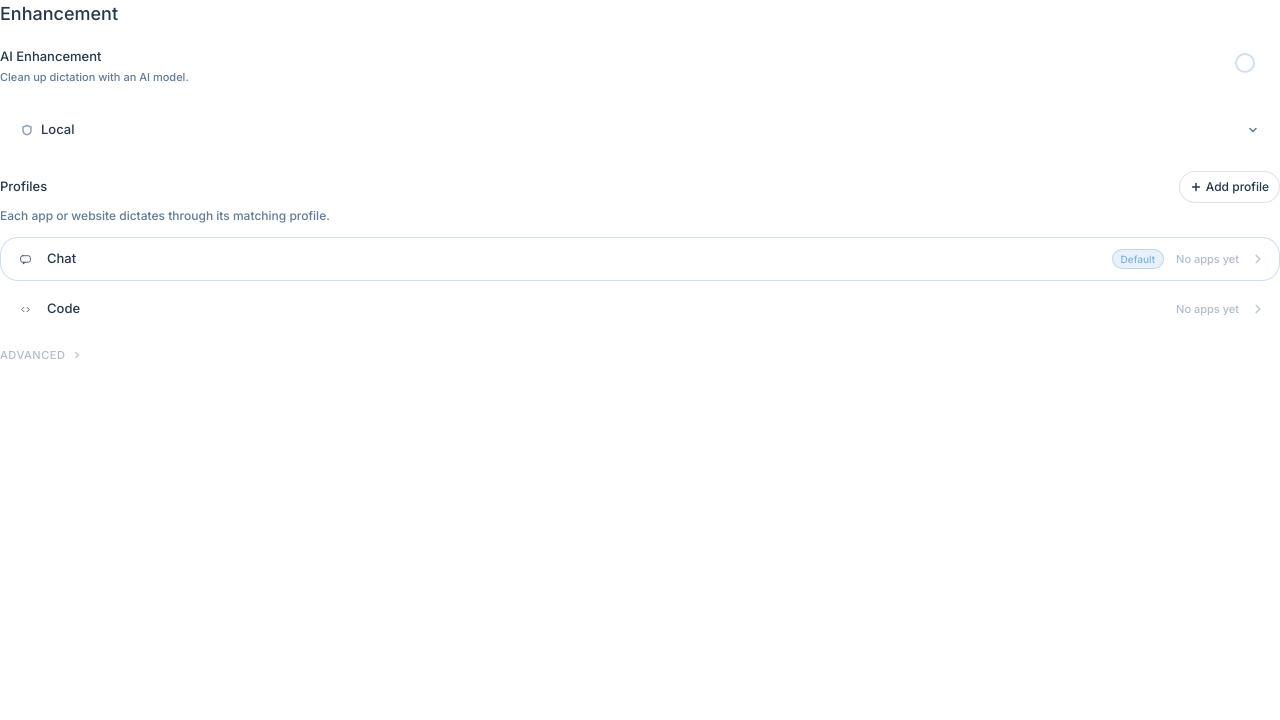
Test case: Enhancement - development candidate model selector › shows every candidate with exact metadata while hiding unpublished R2 rows
Click the button "Local".
click(58, 129)  # box [1,106,1279,154]
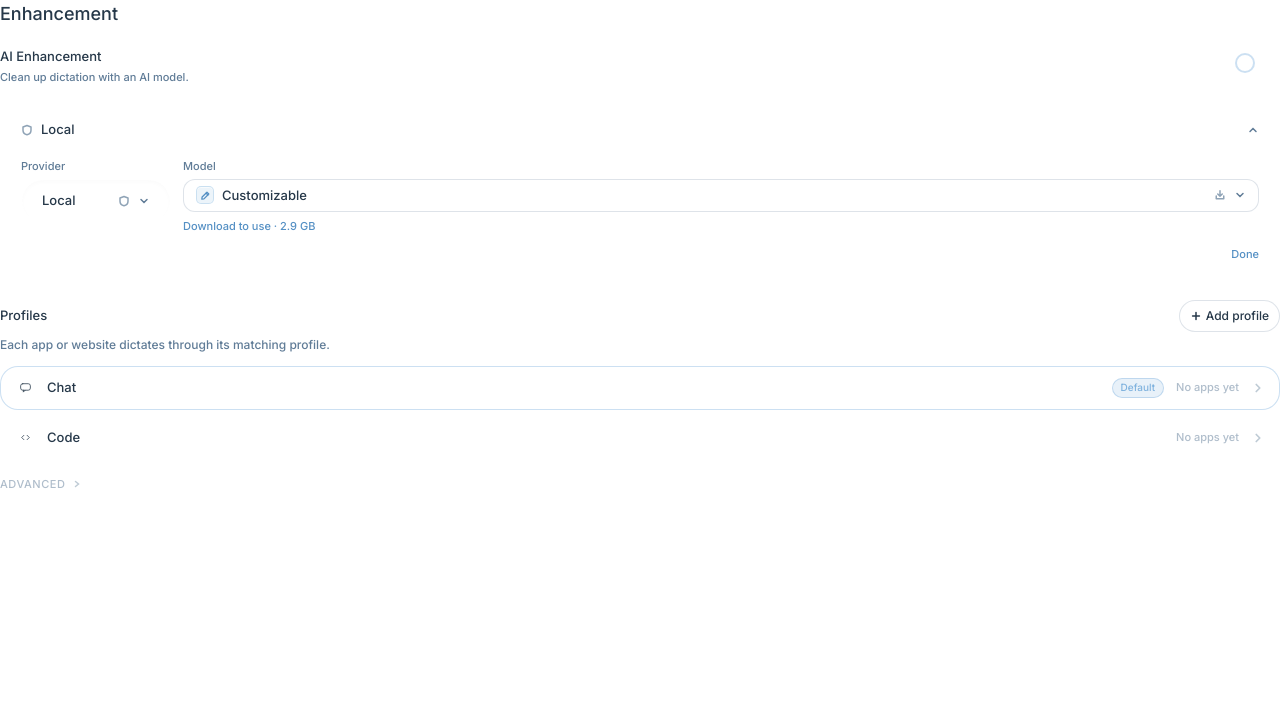
Click the button with aria-label "Local model:".
click(264, 194)  # box [183,178,1259,212]
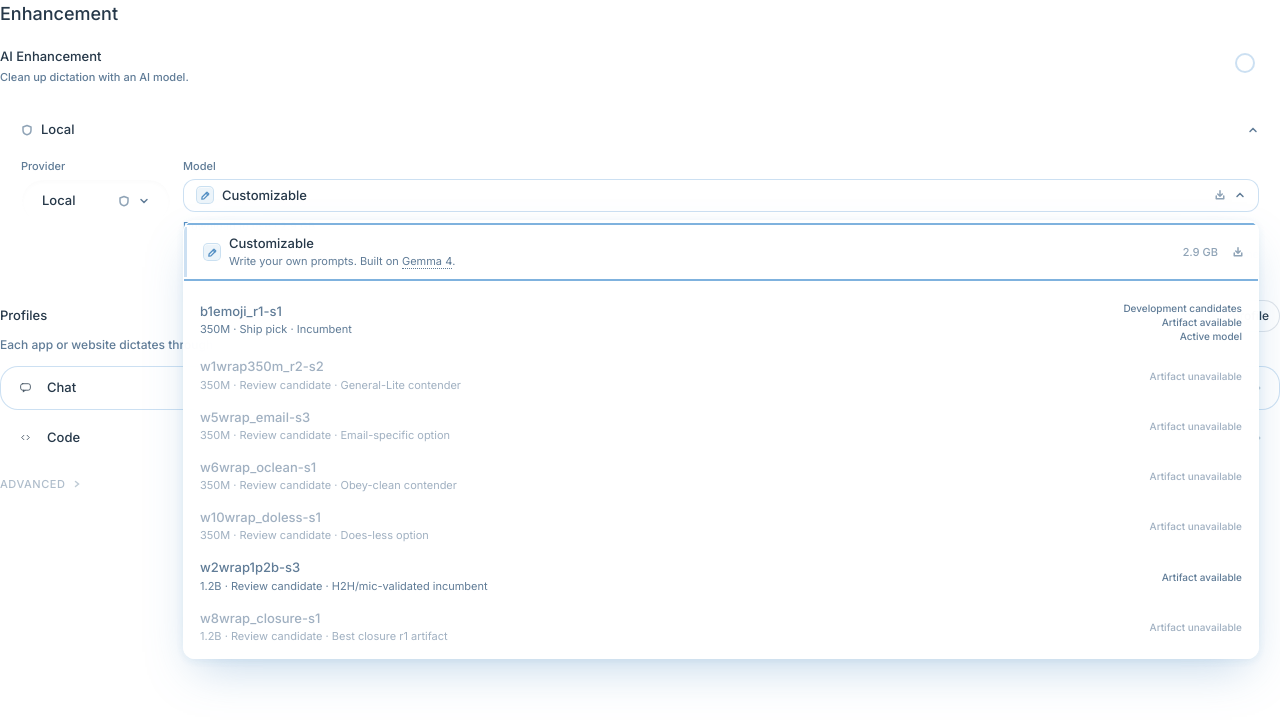
Expected: the text "Development candidates" is shown, [1123,302,1242,314]
Expected: the text "b1emoji_r1-s1" is shown, [200,303,282,319]
Expected: the text "350M · Ship pick · Incumbent" is shown, [200,322,352,336]
